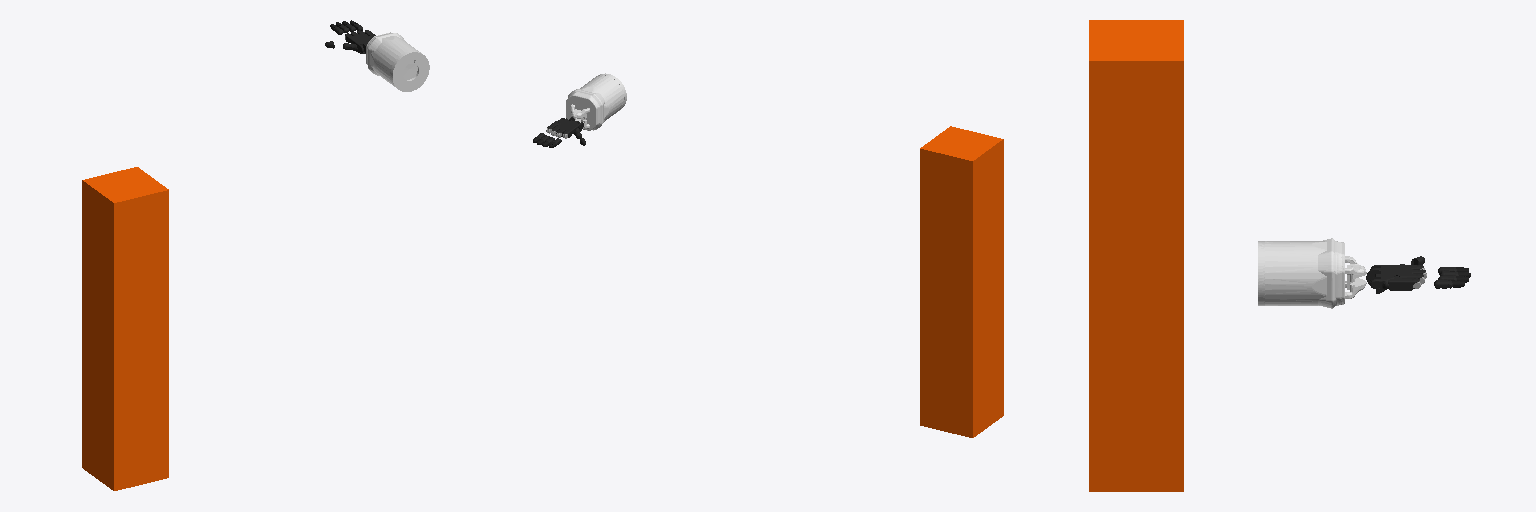
--- Facts derived from the render (not from the file) ---
Views: 3 orthographic renders of the robot side by side, from view 1: azimuth 30°, elevation 25°; view 2: azimuth 150°, elevation 25°; view 3: azimuth 270°, elevation 25°.
Robot: shadow_hand_on_ur10 — 45 links, 44 joints (30 revolute, 14 fixed); root link world; default pose: every joint at zero.
Links seen in each view (by area): view 1: arm_base, rh_forearm; view 2: arm_base, rh_forearm; view 3: arm_base, rh_forearm, rh_palm.
Boxes of the visible links, left/top/right/bottom form: arm_base: left=82, top=167, right=168, bottom=490; rh_forearm: left=366, top=32, right=429, bottom=91; arm_base: left=920, top=126, right=1003, bottom=437; rh_forearm: left=566, top=73, right=626, bottom=130; arm_base: left=1089, top=20, right=1183, bottom=491; rh_forearm: left=1258, top=238, right=1366, bottom=308; rh_palm: left=1366, top=265, right=1425, bottom=293.
Size in the robot's own frame: 1.35 by 0.8042 by 1.08 metres.
Meshes: 18 distinct files referenced, 17 mesh visuals loaded (8 Collada DAE); not drawn: 13 (reference not matched to a file when rendering).

The robot description file, URDF, robot "shadow_hand_on_ur10":
<?xml version="1.0" ?>
<!-- =================================================================================== -->
<!-- |    This document was autogenerated by xacro from shadow_hand_on_ur10.urdf.xacro | -->
<!-- |    EDITING THIS FILE BY HAND IS NOT RECOMMENDED                                 | -->
<!-- =================================================================================== -->
<robot name="shadow_hand_on_ur10" xmlns:controller="http://playerstage.sourceforge.net/gazebo/xmlschema/#controller" xmlns:interface="http://playerstage.sourceforge.net/gazebo/xmlschema/#interface" xmlns:sensor="http://playerstage.sourceforge.net/gazebo/xmlschema/#sensor">
  <!-- arm base, orange block/mount for ur5 or ur10 arm -->
  <!-- ################################################################### -->
  <!-- "arm base" : make box to elevate the robot arm -->
  <!-- fix arm base, so that it does not fall -->
  <link name="world"/>
  <joint name="world_to_robot" type="fixed">
    <parent link="world"/>
    <child link="arm_base"/>
    <origin rpy="0 0 0" xyz="0 0 0"/>
  </joint>
  <link name="arm_base">
    <visual>
      <origin rpy="0 0 0" xyz="0 0 0.5"/>
      <geometry>
        <box size="0.2 0.2 1.0"/>
      </geometry>
      <material name="orange">
        <!-- rviz will read this color -->
        <color rgba="1.0 0.4235294117647059 0.0392156862745098 1.0"/>
      </material>
    </visual>
    <collision>
      <origin rpy="0 0 0" xyz="0 0 0.5"/>
      <geometry>
        <box size="0.2 0.2 1.0"/>
      </geometry>
    </collision>
    <inertial>
      <origin rpy="0 0 0" xyz="0 0 0"/>
      <mass value="8.2573504e-01"/>
      <inertia ixx="2.2124416e-03" ixy="-1.2294101e-05" ixz="3.4938785e-05" iyy="2.1193702e-03" iyz="-5.0120904e-06" izz="2.0064271e-03"/>
    </inertial>
  </link>
  <gazebo reference="arm_base">
    <material>Gazebo/Orange</material>
    <!-- gazebo will read this color -->
  </gazebo>
  <!--ur10 without ros control-->
  <!-- ################################################################### -->
  <!-- ur10 arm -->
  <!--
    Base UR robot series xacro macro.

    NOTE: this is NOT a URDF. It cannot directly be loaded by consumers
    expecting a flattened '.urdf' file. See the top-level '.xacro' for that
    (but note: that .xacro must still be processed by the xacro command).

    For use in '.launch' files: use one of the 'load_urX.launch' convenience
    launch files.

    This file models the base kinematic chain of a UR robot, which then gets
    parameterised by various configuration files to convert it into a UR3(e),
    UR5(e), UR10(e) or UR16e.

    NOTE: the default kinematic parameters (ie: link lengths, frame locations,
    offets, etc) do not correspond to any particular robot. They are defaults
    only. There WILL be non-zero offsets between the Forward Kinematics results
    in TF (ie: robot_state_publisher) and the values reported by the Teach
    Pendant.

    For accurate (and robot-specific) transforms, the 'kinematics_parameters_file'
    parameter MUST point to a .yaml file containing the appropriate values for
    the targetted robot.

    If using the UniversalRobots/Universal_Robots_ROS_Driver, follow the steps
    described in the readme of that repository to extract the kinematic
    calibration from the controller and generate the required .yaml file.

    Main author of the migration to yaml configs: Ludovic Delval.

    Contributors to previous versions (in no particular order):

     - Felix Messmer
     - Kelsey Hawkins
     - Wim Meeussen
     - Shaun Edwards
     - Nadia Hammoudeh Garcia
     - Dave Hershberger
     - G. vd. Hoorn
     - Philip Long
     - Dave Coleman
     - Miguel Prada
     - Mathias Luedtke
     - Marcel Schnirring
     - Felix von Drigalski
     - Felix Exner
     - Jimmy Da Silva
     - Ajit Krisshna N L
     - Muhammad Asif Rana
  -->
  <!--
    NOTE: the macro defined in this file is NOT part of the public API of this
          package. Users CANNOT rely on this file being available, or stored in
          this location. Nor can they rely on the existence of the macro.
  -->
  <transmission name="ur10_shoulder_pan_trans">
    <type>transmission_interface/SimpleTransmission</type>
    <joint name="ur10_shoulder_pan_joint">
      <hardwareInterface>hardware_interface/PositionJointInterface</hardwareInterface>
    </joint>
    <actuator name="ur10_shoulder_pan_motor">
      <mechanicalReduction>1</mechanicalReduction>
    </actuator>
  </transmission>
  <transmission name="ur10_shoulder_lift_trans">
    <type>transmission_interface/SimpleTransmission</type>
    <joint name="ur10_shoulder_lift_joint">
      <hardwareInterface>hardware_interface/PositionJointInterface</hardwareInterface>
    </joint>
    <actuator name="ur10_shoulder_lift_motor">
      <mechanicalReduction>1</mechanicalReduction>
    </actuator>
  </transmission>
  <transmission name="ur10_elbow_trans">
    <type>transmission_interface/SimpleTransmission</type>
    <joint name="ur10_elbow_joint">
      <hardwareInterface>hardware_interface/PositionJointInterface</hardwareInterface>
    </joint>
    <actuator name="ur10_elbow_motor">
      <mechanicalReduction>1</mechanicalReduction>
    </actuator>
  </transmission>
  <transmission name="ur10_wrist_1_trans">
    <type>transmission_interface/SimpleTransmission</type>
    <joint name="ur10_wrist_1_joint">
      <hardwareInterface>hardware_interface/PositionJointInterface</hardwareInterface>
    </joint>
    <actuator name="ur10_wrist_1_motor">
      <mechanicalReduction>1</mechanicalReduction>
    </actuator>
  </transmission>
  <transmission name="ur10_wrist_2_trans">
    <type>transmission_interface/SimpleTransmission</type>
    <joint name="ur10_wrist_2_joint">
      <hardwareInterface>hardware_interface/PositionJointInterface</hardwareInterface>
    </joint>
    <actuator name="ur10_wrist_2_motor">
      <mechanicalReduction>1</mechanicalReduction>
    </actuator>
  </transmission>
  <transmission name="ur10_wrist_3_trans">
    <type>transmission_interface/SimpleTransmission</type>
    <joint name="ur10_wrist_3_joint">
      <hardwareInterface>hardware_interface/PositionJointInterface</hardwareInterface>
    </joint>
    <actuator name="ur10_wrist_3_motor">
      <mechanicalReduction>1</mechanicalReduction>
    </actuator>
  </transmission>
  <!-- links: main serial chain -->
  <link name="ur10_base_link">
    <inertial>
      <mass value="0.0"/>
      <origin rpy="0 0 0" xyz="0 0 0"/>
      <inertia ixx="0.0" ixy="0.0" ixz="0.0" iyy="0.0" iyz="0.0" izz="0.0"/>
    </inertial>
  </link>
  <link name="ur10_base_link_inertia">
    <visual>
      <origin rpy="0 0 3.141592653589793" xyz="0 0 0"/>
      <geometry>
        <mesh filename="../meshes/ur10/visual/base.dae"/>
      </geometry>
      <material name="LightGrey">
        <color rgba="0.7 0.7 0.7 1.0"/>
      </material>
    </visual>
    <collision>
      <origin rpy="0 0 3.141592653589793" xyz="0 0 0"/>
      <geometry>
        <mesh filename="../meshes/ur10/collision/base.stl"/>
      </geometry>
    </collision>
    <inertial>
      <mass value="4.0"/>
      <origin rpy="0 0 0" xyz="0 0 0"/>
      <inertia ixx="0.0061063308908" ixy="0.0" ixz="0.0" iyy="0.0061063308908" iyz="0.0" izz="0.01125"/>
    </inertial>
  </link>
  <link name="ur10_shoulder_link">
    <visual>
      <origin rpy="0 0 3.141592653589793" xyz="0 0 0"/>
      <geometry>
        <mesh filename="../meshes/ur10/visual/shoulder.dae"/>
      </geometry>
      <material name="LightGrey">
        <color rgba="0.7 0.7 0.7 1.0"/>
      </material>
    </visual>
    <collision>
      <origin rpy="0 0 3.141592653589793" xyz="0 0 0"/>
      <geometry>
        <mesh filename="../meshes/ur10/collision/shoulder.stl"/>
      </geometry>
    </collision>
    <inertial>
      <mass value="7.778"/>
      <origin rpy="0 0 0" xyz="0 0 0"/>
      <inertia ixx="0.03147431257693659" ixy="0.0" ixz="0.0" iyy="0.03147431257693659" iyz="0.0" izz="0.021875624999999996"/>
    </inertial>
  </link>
  <link name="ur10_upper_arm_link">
    <visual>
      <origin rpy="1.5707963267948966 0 -1.5707963267948966" xyz="0 0 0.220941"/>
      <geometry>
        <mesh filename="../meshes/ur10/visual/upperarm.dae"/>
      </geometry>
      <material name="LightGrey">
        <color rgba="0.7 0.7 0.7 1.0"/>
      </material>
    </visual>
    <collision>
      <origin rpy="1.5707963267948966 0 -1.5707963267948966" xyz="0 0 0.220941"/>
      <geometry>
        <mesh filename="../meshes/ur10/collision/upperarm.stl"/>
      </geometry>
    </collision>
    <inertial>
      <mass value="12.93"/>
      <origin rpy="0 1.5707963267948966 0" xyz="-0.306 0.0 0.175"/>
      <inertia ixx="0.42175380379841093" ixy="0.0" ixz="0.0" iyy="0.42175380379841093" iyz="0.0" izz="0.03636562499999999"/>
    </inertial>
  </link>
  <link name="ur10_forearm_link">
    <visual>
      <origin rpy="1.5707963267948966 0 -1.5707963267948966" xyz="0 0 0.049042"/>
      <geometry>
        <mesh filename="../meshes/ur10/visual/forearm.dae"/>
      </geometry>
      <material name="LightGrey">
        <color rgba="0.7 0.7 0.7 1.0"/>
      </material>
    </visual>
    <collision>
      <origin rpy="1.5707963267948966 0 -1.5707963267948966" xyz="0 0 0.049042"/>
      <geometry>
        <mesh filename="../meshes/ur10/collision/forearm.stl"/>
      </geometry>
    </collision>
    <inertial>
      <mass value="3.87"/>
      <origin rpy="0 1.5707963267948966 0" xyz="-0.28615 0.0 0.049042"/>
      <inertia ixx="0.11106969409710458" ixy="0.0" ixz="0.0" iyy="0.11106969409710458" iyz="0.0" izz="0.010884375"/>
    </inertial>
  </link>
  <link name="ur10_wrist_1_link">
    <visual>
      <!-- TODO: Move this to a parameter -->
      <origin rpy="1.5707963267948966 0 0" xyz="0 0 -0.1149"/>
      <geometry>
        <mesh filename="../meshes/ur10/visual/wrist1.dae"/>
      </geometry>
      <material name="LightGrey">
        <color rgba="0.7 0.7 0.7 1.0"/>
      </material>
    </visual>
    <collision>
      <origin rpy="1.5707963267948966 0 0" xyz="0 0 -0.1149"/>
      <geometry>
        <mesh filename="../meshes/ur10/collision/wrist1.stl"/>
      </geometry>
    </collision>
    <inertial>
      <mass value="1.96"/>
      <origin rpy="0 0 0" xyz="0 0 0"/>
      <inertia ixx="0.005108247956699999" ixy="0.0" ixz="0.0" iyy="0.005108247956699999" iyz="0.0" izz="0.005512499999999999"/>
    </inertial>
  </link>
  <link name="ur10_wrist_2_link">
    <visual>
      <origin rpy="0 0 0" xyz="0 0 -0.1158"/>
      <geometry>
        <mesh filename="../meshes/ur10/visual/wrist2.dae"/>
      </geometry>
      <material name="LightGrey">
        <color rgba="0.7 0.7 0.7 1.0"/>
      </material>
    </visual>
    <collision>
      <origin rpy="0 0 0" xyz="0 0 -0.1158"/>
      <geometry>
        <mesh filename="../meshes/ur10/collision/wrist2.stl"/>
      </geometry>
    </collision>
    <inertial>
      <mass value="1.96"/>
      <origin rpy="0 0 0" xyz="0 0 0"/>
      <inertia ixx="0.0040792483683" ixy="0.0" ixz="0.0" iyy="0.0040792483683" iyz="0.0" izz="0.005512499999999999"/>
    </inertial>
  </link>
  <link name="ur10_wrist_3_link">
    <visual>
      <origin rpy="1.5707963267948966 0 0" xyz="0 0 -0.0922"/>
      <geometry>
        <mesh filename="../meshes/ur10/visual/wrist3.dae"/>
      </geometry>
      <material name="LightGrey">
        <color rgba="0.7 0.7 0.7 1.0"/>
      </material>
    </visual>
    <collision>
      <origin rpy="1.5707963267948966 0 0" xyz="0 0 -0.0922"/>
      <geometry>
        <mesh filename="../meshes/ur10/collision/wrist3.stl"/>
      </geometry>
    </collision>
    <inertial>
      <mass value="0.202"/>
      <origin rpy="0 0 0" xyz="0.0 0.0 -0.01525"/>
      <inertia ixx="0.00011792166116465" ixy="0.0" ixz="0.0" iyy="0.00011792166116465" iyz="0.0" izz="0.00020452500000000002"/>
    </inertial>
  </link>
  <!-- joints: main serial chain -->
  <joint name="ur10_base_link-base_link_inertia" type="fixed">
    <parent link="ur10_base_link"/>
    <child link="ur10_base_link_inertia"/>
    <!-- 'base_link' is REP-103 aligned (so X+ forward), while the internal
           frames of the robot/controller have X+ pointing backwards.
           Use the joint between 'base_link' and 'base_link_inertia' (a dummy
           link/frame) to introduce the necessary rotation over Z (of pi rad).
      -->
    <origin rpy="0 0 3.141592653589793" xyz="0 0 0"/>
  </joint>
  <joint name="ur10_shoulder_pan_joint" type="revolute">
    <parent link="ur10_base_link_inertia"/>
    <child link="ur10_shoulder_link"/>
    <origin rpy="0 0 0" xyz="0 0 0.1273"/>
    <axis xyz="0 0 1"/>
    <limit effort="330.0" lower="-6.283185307179586" upper="6.283185307179586" velocity="2.0943951023931953"/>
    <dynamics damping="0" friction="0"/>
  </joint>
  <joint name="ur10_shoulder_lift_joint" type="revolute">
    <parent link="ur10_shoulder_link"/>
    <child link="ur10_upper_arm_link"/>
    <origin rpy="1.570796327 0 0" xyz="0 0 0"/>
    <axis xyz="0 0 1"/>
    <limit effort="330.0" lower="-6.283185307179586" upper="6.283185307179586" velocity="2.0943951023931953"/>
    <dynamics damping="0" friction="0"/>
  </joint>
  <joint name="ur10_elbow_joint" type="revolute">
    <parent link="ur10_upper_arm_link"/>
    <child link="ur10_forearm_link"/>
    <origin rpy="0 0 0" xyz="-0.612 0 0"/>
    <axis xyz="0 0 1"/>
    <limit effort="150.0" lower="-3.141592653589793" upper="3.141592653589793" velocity="3.141592653589793"/>
    <dynamics damping="0" friction="0"/>
  </joint>
  <joint name="ur10_wrist_1_joint" type="revolute">
    <parent link="ur10_forearm_link"/>
    <child link="ur10_wrist_1_link"/>
    <origin rpy="0 0 0" xyz="-0.5723 0 0.163941"/>
    <axis xyz="0 0 1"/>
    <limit effort="56.0" lower="-6.283185307179586" upper="6.283185307179586" velocity="3.141592653589793"/>
    <dynamics damping="0" friction="0"/>
  </joint>
  <joint name="ur10_wrist_2_joint" type="revolute">
    <parent link="ur10_wrist_1_link"/>
    <child link="ur10_wrist_2_link"/>
    <origin rpy="1.570796327 0 0" xyz="0 -0.1157 -2.373046667922381e-11"/>
    <axis xyz="0 0 1"/>
    <limit effort="56.0" lower="-6.283185307179586" upper="6.283185307179586" velocity="3.141592653589793"/>
    <dynamics damping="0" friction="0"/>
  </joint>
  <joint name="ur10_wrist_3_joint" type="revolute">
    <parent link="ur10_wrist_2_link"/>
    <child link="ur10_wrist_3_link"/>
    <origin rpy="1.570796326589793 3.141592653589793 3.141592653589793" xyz="0 0.0922 -1.891053610911353e-11"/>
    <axis xyz="0 0 1"/>
    <limit effort="56.0" lower="-6.283185307179586" upper="6.283185307179586" velocity="3.141592653589793"/>
    <dynamics damping="0" friction="0"/>
  </joint>
  <!-- ROS-Industrial 'base' frame: base_link to UR 'Base' Coordinates transform -->
  <link name="ur10_base">
    <inertial>
      <mass value="0.0"/>
      <origin rpy="0 0 0" xyz="0 0 0"/>
      <inertia ixx="0.0" ixy="0.0" ixz="0.0" iyy="0.0" iyz="0.0" izz="0.0"/>
    </inertial>
  </link>
  <joint name="ur10_base_link-base_fixed_joint" type="fixed">
    <!-- Note the rotation over Z of pi radians: as base_link is REP-103
           aligned (ie: has X+ forward, Y+ left and Z+ up), this is needed
           to correctly align 'base' with the 'Base' coordinate system of
           the UR controller.
      -->
    <origin rpy="0 0 3.141592653589793" xyz="0 0 0"/>
    <parent link="ur10_base_link"/>
    <child link="ur10_base"/>
  </joint>
  <!-- ROS-Industrial 'flange' frame: attachment point for EEF models -->
  <link name="ur10_flange">
    <inertial>
      <mass value="0.0"/>
      <origin rpy="0 0 0" xyz="0 0 0"/>
      <inertia ixx="0.0" ixy="0.0" ixz="0.0" iyy="0.0" iyz="0.0" izz="0.0"/>
    </inertial>
  </link>
  <joint name="ur10_wrist_3-flange" type="fixed">
    <parent link="ur10_wrist_3_link"/>
    <child link="ur10_flange"/>
    <origin rpy="0 -1.5707963267948966 -1.5707963267948966" xyz="0 0 0"/>
  </joint>
  <!-- ROS-Industrial 'tool0' frame: all-zeros tool frame -->
  <link name="ur10_tool0">
    <inertial>
      <mass value="0.0"/>
      <origin rpy="0 0 0" xyz="0 0 0"/>
      <inertia ixx="0.0" ixy="0.0" ixz="0.0" iyy="0.0" iyz="0.0" izz="0.0"/>
    </inertial>
  </link>
  <joint name="ur10_flange-tool0" type="fixed">
    <!-- default toolframe: X+ left, Y+ up, Z+ front -->
    <origin rpy="1.5707963267948966 0 1.5707963267948966" xyz="0 0 0"/>
    <parent link="ur10_flange"/>
    <child link="ur10_tool0"/>
  </joint>
  <!-- ################################################################### -->
  <!-- attach "arm" and "arm base" -->
  <joint name="arm_base_to_arm" type="fixed">
    <parent link="arm_base"/>
    <child link="ur10_base_link"/>
    <origin rpy="0 0 0" xyz="0 0 1.0"/>
  </joint>
  <material name="Blue">
    <color rgba="0.0 0.0 0.8 1.0"/>
  </material>
  <material name="Green">
    <color rgba="0.0 0.8 0.0 1.0"/>
  </material>
  <material name="BiotacGreen">
    <color rgba="0.31 0.85 0.42 1.0"/>
  </material>
  <material name="Grey">
    <color rgba="0.2 0.2 0.2 1.0"/>
  </material>
  <material name="LightGrey">
    <color rgba="0.6 0.6 0.6 1.0"/>
  </material>
  <material name="Red">
    <color rgba="0.8 0.0 0.0 1.0"/>
  </material>
  <material name="White">
    <color rgba="1.0 1.0 1.0 1.0"/>
  </material>
  <gazebo>
    <plugin filename="libgazebo_ros_control.so" name="gazebo_ros_control">
      <robotSimType>sr_gazebo_sim/SrGazeboHWSim</robotSimType>
    </plugin>
  </gazebo>
  <link name="rh_forearm">
    <inertial>
      <origin rpy="0 0 0" xyz="0 0 0.09"/>
      <mass value="3.0"/>
      <inertia ixx="0.0138" ixy="0.0" ixz="0.0" iyy="0.0138" iyz="0.0" izz="0.00744"/>
    </inertial>
    <visual>
      <origin rpy="0 0 0" xyz="0 0 0.0"/>
      <geometry name="rh_forearm_visual">
        <mesh filename="../meshes/components/forearm/forearm_E3M5.dae" scale="0.001 0.001 0.001"/>
      </geometry>
      <material name="light_grey">
        <color rgba="0.90000 0.90000 0.90000 1.0"/>
      </material>
    </visual>
    <collision>
      <origin rpy="0 0 0" xyz="0 0 0.0"/>
      <geometry name="rh_forearm_collision">
        <mesh filename="../meshes/components/forearm/forearm_collision_E3M5.dae" scale="0.001 0.001 0.001"/>
      </geometry>
    </collision>
    <!-- wrist mount -->
    <collision>
      <origin rpy="0 0.78 0" xyz="0 -0.01 0.181"/>
      <geometry>
        <box size="0.07 0.07 0.07"/>
      </geometry>
    </collision>
    <!-- TODO: Make a decision on whether to add the connector or not -->
    <!--visual>
        <origin rpy="0 -1.57 -1.57" xyz="0.0 0.067 0.0045"/>
        <geometry name="${prefix}cable_extr_visualisation">
          <mesh filename="../meshes/components/cable_connector/cable_connector_base_${hand_version}.dae" scale="0.001 0.001 0.001" />
        </geometry>
      </visual-->
  </link>
  <gazebo reference="rh_forearm">
    <selfCollide>false</selfCollide>
  </gazebo>
  <link name="rh_wrist">
    <inertial>
      <origin rpy="0 0 0" xyz="0 0 0.029"/>
      <mass value="0.1"/>
      <inertia ixx="0.000035" ixy="0.0" ixz="0.0" iyy="0.000064" iyz="0.0" izz="0.0000438"/>
    </inertial>
    <visual>
      <origin rpy="0 0 0" xyz="0 0 0"/>
      <geometry name="rh_wrist_visual">
        <mesh filename="../meshes/components/wrist/wrist_E3M5.dae" scale="0.001 0.001 0.001"/>
      </geometry>
      <material name="LightGrey"/>
    </visual>
    <collision>
      <origin rpy="1.5708 1.5708 0" xyz="0 0 0"/>
      <geometry name="rh_wrist_collision_geom">
        <cylinder length="0.030" radius="0.0135"/>
      </geometry>
    </collision>
    <collision>
      <origin rpy="0 1.5708 0" xyz="-0.026 0 0.034"/>
      <geometry>
        <cylinder length="0.010" radius="0.011"/>
      </geometry>
    </collision>
    <collision>
      <origin rpy="0 1.5708 0" xyz="0.031 0 0.034"/>
      <geometry>
        <cylinder length="0.010" radius="0.011"/>
      </geometry>
    </collision>
    <collision>
      <origin rpy="0 0.7854 0" xyz="-0.021 0 0.011"/>
      <geometry>
        <box size="0.027 0.018 0.010"/>
      </geometry>
    </collision>
    <collision>
      <origin rpy="0 -0.7854 0" xyz="0.026 0 0.010"/>
      <geometry>
        <box size="0.027 0.018 0.010"/>
      </geometry>
    </collision>
  </link>
  <gazebo reference="rh_wrist">
    <material>Gazebo/White</material>
    <selfCollide>false</selfCollide>
  </gazebo>
  <joint name="rh_WRJ2" type="revolute">
    <parent link="rh_forearm"/>
    <child link="rh_wrist"/>
    <origin rpy="0 0 0" xyz="0 -0.010 0.21301"/>
    <axis xyz="0 1 0"/>
    <limit effort="10" lower="-0.5235987755982988" upper="0.17453292519943295" velocity="2.0"/>
    <dynamics damping="0.1"/>
  </joint>
  <gazebo reference="rh_WRJ2">
    <provideFeedback>1</provideFeedback>
    <implicitSpringDamper>1</implicitSpringDamper>
  </gazebo>
  <transmission name="rh_wrist_transmission">
    <type>sr_mechanism_model/SimpleTransmission</type>
    <actuator name="rh_WRJ2">
      <mechanicalReduction>1</mechanicalReduction>
    </actuator>
    <joint name="rh_WRJ2">
      <hardwareInterface>EffortJointInterface</hardwareInterface>
      <hardwareInterface>PositionJointInterface</hardwareInterface>
    </joint>
  </transmission>
  <link name="rh_palm">
    <inertial>
      <origin rpy="0 0 0" xyz="0 0 0.035"/>
      <mass value="0.3"/>
      <inertia ixx="0.0003581" ixy="0.0" ixz="0.0" iyy="0.0005287" iyz="0.0" izz="0.000191"/>
    </inertial>
    <visual>
      <origin rpy="0 0 0" xyz="0 0 0"/>
      <geometry name="rh_palm_visual">
        <mesh filename="../meshes/components/palm/palm_E3M5.dae" scale="0.001 0.001 0.001"/>
      </geometry>
      <material name="Grey"/>
    </visual>
    <collision>
      <origin rpy="0 0 0" xyz="0.011 0.0085 0.038"/>
      <geometry name="rh_palm_collision_geom">
        <box size="0.062 0.007 0.098"/>
      </geometry>
    </collision>
    <collision>
      <origin rpy="0 0 0" xyz="-0.002 -0.0035 0.038"/>
      <geometry>
        <box size="0.036 0.017 0.098"/>
      </geometry>
    </collision>
    <!-- palm complement below first finger -->
    <collision>
      <origin rpy="0 0 0" xyz="0.029 -0.0035 0.082"/>
      <geometry>
        <box size="0.026 0.017 0.010"/>
      </geometry>
    </collision>
    <collision>
      <origin rpy="0.2 0 0.25" xyz="0.0265 -0.001 0.070"/>
      <geometry>
        <box size="0.026 0.014 0.018"/>
      </geometry>
    </collision>
    <!-- thumb pulp side -->
    <collision>
      <origin rpy="0 0 0" xyz="0.0315 -0.0085 0.001"/>
      <geometry>
        <box size="0.021 0.027 0.024"/>
      </geometry>
    </collision>
    <!-- thumb pulp central -->
    <collision>
      <origin rpy="0 0 -0.48" xyz="0.0125 -0.015 0.009"/>
      <geometry>
        <box size="0.022 0.005 0.040"/>
      </geometry>
    </collision>
    <!-- above middle finger-->
    <collision>
      <origin rpy="0 0 0" xyz="0.011 0 0.089"/>
      <geometry>
        <box size="0.018 0.024 0.004"/>
      </geometry>
    </collision>
    <!-- metacarpal side-->
    <collision>
      <origin rpy="0 0 0" xyz="-0.03 0 0.009"/>
      <geometry>
        <box size="0.020 0.024 0.040"/>
      </geometry>
    </collision>
  </link>
  <joint name="rh_ee_fixed_joint" type="fixed">
    <parent link="rh_palm"/>
    <child link="rh_manipulator"/>
    <origin rpy="0.0 0.0 0.0" xyz="0.0 0.0 0.05"/>
  </joint>
  <link name="rh_manipulator">
    <inertial>
      <mass value="0.0"/>
      <origin rpy="0 0 0" xyz="0 0 0"/>
      <inertia ixx="0.0" ixy="0.0" ixz="0.0" iyy="0.0" iyz="0.0" izz="0.0"/>
    </inertial>
  </link>
  <joint name="rh_WRJ1" type="revolute">
    <parent link="rh_wrist"/>
    <child link="rh_palm"/>
    <origin rpy="0 0 0" xyz="0 0 0.034"/>
    <axis xyz="1 0 0"/>
    <limit effort="30" lower="-0.6981317007977318" upper="0.4886921905584123" velocity="2.0"/>
    <dynamics damping="0.1"/>
  </joint>
  <gazebo reference="rh_WRJ1">
    <provideFeedback>1</provideFeedback>
    <implicitSpringDamper>1</implicitSpringDamper>
  </gazebo>
  <link name="rh_imu">
    <inertial>
      <mass value="0.0"/>
      <origin rpy="0 0 0" xyz="0 0 0"/>
      <inertia ixx="0.0" ixy="0.0" ixz="0.0" iyy="0.0" iyz="0.0" izz="0.0"/>
    </inertial>
  </link>
  <joint name="rh_palm_to_imu" type="fixed">
    <parent link="rh_palm"/>
    <child link="rh_imu"/>
    <origin rpy="-1.5707963 3.141592 0.0" xyz="0.01785 0.00765 0.049125"/>
  </joint>
  <transmission name="rh_palm_transmission">
    <type>sr_mechanism_model/SimpleTransmission</type>
    <actuator name="rh_WRJ1">
      <mechanicalReduction>1</mechanicalReduction>
    </actuator>
    <joint name="rh_WRJ1">
      <hardwareInterface>EffortJointInterface</hardwareInterface>
      <hardwareInterface>PositionJointInterface</hardwareInterface>
    </joint>
  </transmission>
  <gazebo reference="rh_palm">
  </gazebo>
  <link name="rh_ffknuckle">
    <inertial>
      <origin rpy="0 0 0" xyz="0 0 0"/>
      <mass value="0.008"/>
      <inertia ixx="0.00000026" ixy="0.0" ixz="0.0" iyy="0.00000026" iyz="0.0" izz="0.00000032"/>
    </inertial>
    <visual>
      <origin rpy="0 0 0" xyz="0 0 0.0005"/>
      <geometry name="rh_ffknuckle_visual">
        <mesh filename="../meshes/components/f_knuckle/f_knuckle_E3M5.dae" scale="0.001 0.001 0.001"/>
      </geometry>
      <material name="LightGrey"/>
    </visual>
    <collision>
      <origin rpy="0 1.5708 0" xyz="0 0 0"/>
      <geometry name="rh_ffknuckle_collision_geom">
        <cylinder length="0.014" radius="0.007"/>
      </geometry>
    </collision>
  </link>
  <joint name="rh_FFJ4" type="revolute">
    <parent link="rh_palm"/>
    <child link="rh_ffknuckle"/>
    <!--<origin xyz="0.033 0 0.095" rpy="0 0 0" />-->
    <origin rpy="0 0 0" xyz="0.033 0 0.095"/>
    <axis xyz="0 -1 0"/>
    <limit effort="2" lower="-0.3490658503988659" upper="0.3490658503988659" velocity="2.0"/>
    <dynamics damping="0.1"/>
  </joint>
  <gazebo reference="rh_FFJ4">
    <provideFeedback>1</provideFeedback>
    <implicitSpringDamper>1</implicitSpringDamper>
  </gazebo>
  <transmission name="rh_ffknuckle_transmission">
    <type>sr_mechanism_model/SimpleTransmission</type>
    <actuator name="rh_FFJ4">
      <mechanicalReduction>1</mechanicalReduction>
    </actuator>
    <joint name="rh_FFJ4">
      <hardwareInterface>EffortJointInterface</hardwareInterface>
      <hardwareInterface>PositionJointInterface</hardwareInterface>
    </joint>
  </transmission>
  <gazebo reference="rh_ffknuckle">
    <!-- knuckle is not highly exposed, so bumper is not useful -->
    <material>Gazebo/Grey</material>
  </gazebo>
  <link name="rh_ffproximal">
    <inertial>
      <mass value="0.030"/>
      <origin xyz="0 0 0.0225"/>
      <inertia ixx="0.0000098" ixy="0.0" ixz="0.0" iyy="0.00001" iyz="0.0" izz="0.0000018"/>
    </inertial>
    <visual>
      <origin rpy="0 0 0" xyz="0 0 0"/>
      <geometry name="rh_ffproximal_visual">
        <mesh filename="../meshes/components/f_proximal/f_proximal_E3M5.dae" scale="0.001 0.001 0.001"/>
      </geometry>
      <material name="Grey"/>
    </visual>
    <collision>
      <origin rpy="0 0 0" xyz="0 0 0.025"/>
      <geometry name="rh_ffproximal_collision_geom">
        <cylinder length="0.040" radius="0.007"/>
      </geometry>
    </collision>
  </link>
  <joint name="rh_FFJ3" type="revolute">
    <parent link="rh_ffknuckle"/>
    <child link="rh_ffproximal"/>
    <origin rpy="0 0 0" xyz="0 0 0"/>
    <axis xyz="1 0 0"/>
    <limit effort="2" lower="-0.2617993877991494" upper="1.5707963267948966" velocity="2.0"/>
    <dynamics damping="0.1"/>
  </joint>
  <gazebo reference="rh_FFJ3">
    <provideFeedback>1</provideFeedback>
    <implicitSpringDamper>1</implicitSpringDamper>
  </gazebo>
  <transmission name="rh_ffproximal_transmission">
    <type>sr_mechanism_model/SimpleTransmission</type>
    <actuator name="rh_FFJ3">
      <mechanicalReduction>1</mechanicalReduction>
    </actuator>
    <joint name="rh_FFJ3">
      <hardwareInterface>EffortJointInterface</hardwareInterface>
      <hardwareInterface>PositionJointInterface</hardwareInterface>
    </joint>
  </transmission>
  <gazebo reference="rh_ffproximal">
    <selfCollide>true</selfCollide>
  </gazebo>
  <link name="rh_ffmiddle">
    <inertial>
      <origin rpy="0 0 0" xyz="0 0 0.0125"/>
      <mass value="0.017"/>
      <inertia ixx="0.0000026" ixy="0.0" ixz="0.0" iyy="0.0000027" iyz="0.0" izz="0.00000087"/>
    </inertial>
    <visual>
      <origin rpy="0 0 0" xyz="0 0 0"/>
      <geometry name="rh_ffmiddle_visual">
        <mesh filename="../meshes/components/f_middle/f_middle_E3M5.dae" scale="0.001 0.001 0.001"/>
      </geometry>
      <material name="Grey"/>
    </visual>
    <collision>
      <origin rpy="0 0 0" xyz="0 0 0.0125"/>
      <geometry name="rh_ffmiddle_collision_geom">
        <cylinder length="0.025" radius="0.007"/>
      </geometry>
    </collision>
    <collision>
      <origin rpy="0 0 0" xyz="0 0 0.0"/>
      <geometry>
        <sphere radius="0.007"/>
      </geometry>
    </collision>
    <collision>
      <origin rpy="0 0 0" xyz="0 0 0.025"/>
      <geometry>
        <sphere radius="0.007"/>
      </geometry>
    </collision>
  </link>
  <joint name="rh_FFJ2" type="revolute">
    <parent link="rh_ffproximal"/>
    <child link="rh_ffmiddle"/>
    <origin rpy="0 0 0" xyz="0 0 0.045"/>
    <axis xyz="1 0 0"/>
    <limit effort="2" lower="0" upper="1.5707963267948966" velocity="2.0"/>
    <dynamics damping="0.1"/>
  </joint>
  <gazebo reference="rh_FFJ2">
    <provideFeedback>1</provideFeedback>
    <implicitSpringDamper>1</implicitSpringDamper>
  </gazebo>
  <transmission name="rh_ffmiddle_transmission">
    <type>sr_mechanism_model/J0Transmission</type>
    <actuator name="rh_FFJ0">
      <mechanicalReduction>1</mechanicalReduction>
    </actuator>
    <joint name="rh_FFJ1">
      <hardwareInterface>EffortJointInterface</hardwareInterface>
      <hardwareInterface>PositionJointInterface</hardwareInterface>
    </joint>
  </transmission>
  <gazebo reference="rh_ffmiddle">
    <selfCollide>true</selfCollide>
  </gazebo>
  <link name="rh_ffdistal">
    <inertial>
      <mass value="0.012"/>
      <origin xyz="0 0 0.012"/>
      <inertia ixx="0.00000094" ixy="0.0" ixz="0.0" iyy="0.0000011" iyz="0.0" izz="0.00000053"/>
    </inertial>
    <visual>
      <origin rpy="0 0 0" xyz="0 0 0"/>
      <geometry name="rh_ffdistal_visual">
        <mesh filename="../meshes/components/f_distal/pst/f_distal_pst.dae" scale="0.001 0.001 0.001"/>
      </geometry>
    </visual>
    <collision>
      <origin rpy="0 0 0" xyz="0 0 0"/>
      <geometry name="rh_ffdistal_collision_geom">
        <mesh filename="../meshes/components/f_distal/pst/f_distal_pst.dae" scale="0.001 0.001 0.001"/>
      </geometry>
    </collision>
  </link>
  <joint name="rh_FFJ1" type="revolute">
    <parent link="rh_ffmiddle"/>
    <child link="rh_ffdistal"/>
    <origin rpy="0 0 0" xyz="0 0 0.025"/>
    <axis xyz="1 0 0"/>
    <!-- standard distal joint -->
    <limit effort="2" lower="0" upper="1.5707963267948966" velocity="2.0"/>
    <dynamics damping="0.1"/>
  </joint>
  <gazebo reference="rh_FFJ1">
    <provideFeedback>1</provideFeedback>
    <implicitSpringDamper>1</implicitSpringDamper>
  </gazebo>
  <link name="rh_fftip">
    <inertial>
      <mass value="0.001"/>
      <inertia ixx="0.0" ixy="0.0" ixz="0.0" iyy="0.0" iyz="0.0" izz="0.0"/>
    </inertial>
  </link>
  <joint name="rh_FFtip" type="fixed">
    <parent link="rh_ffdistal"/>
    <child link="rh_fftip"/>
    <origin rpy="0 0 0" xyz="0 0 0.026"/>
  </joint>
  <gazebo reference="rh_ffdistal">
    <sensor name="rh_ffdistal_contact" type="contact">
      <always_on>1</always_on>
      <update_rate>1000.0</update_rate>
      <contact>
        <collision>rh_ffdistal_collision</collision>
        <topic>rh_ffdistal_collision</topic>
      </contact>
      <plugin filename="libgazebo_ros_bumper.so" name="rh_ffdistal_gazebo_ros_bumper_controller">
        <alwaysOn>true</alwaysOn>
        <frameName>rh_ffdistal</frameName>
        <updateRate>100.0</updateRate>
        <bumperTopicName>contacts/rh_ff/distal</bumperTopicName>
      </plugin>
    </sensor>
    <mu1 value="500.0"/>
    <mu2 value="500.0"/>
    <kp value="10000000.0"/>
    <kd value="1.0"/>
    <selfCollide>true</selfCollide>
  </gazebo>
  <link name="rh_mfknuckle">
    <inertial>
      <origin rpy="0 0 0" xyz="0 0 0"/>
      <mass value="0.008"/>
      <inertia ixx="0.00000026" ixy="0.0" ixz="0.0" iyy="0.00000026" iyz="0.0" izz="0.00000032"/>
    </inertial>
    <visual>
      <origin rpy="0 0 0" xyz="0 0 0.0005"/>
      <geometry name="rh_mfknuckle_visual">
        <mesh filename="../meshes/components/f_knuckle/f_knuckle_E3M5.dae" scale="0.001 0.001 0.001"/>
      </geometry>
      <material name="LightGrey"/>
    </visual>
    <collision>
      <origin rpy="0 1.5708 0" xyz="0 0 0"/>
      <geometry name="rh_mfknuckle_collision_geom">
        <cylinder length="0.014" radius="0.007"/>
      </geometry>
    </collision>
  </link>
  <joint name="rh_MFJ4" type="revolute">
    <parent link="rh_palm"/>
    <child link="rh_mfknuckle"/>
    <!--<origin xyz="0.033 0 0.095" rpy="0 0 0" />-->
    <origin rpy="0 0 0" xyz="0.011 0 0.099"/>
    <axis xyz="0 -1 0"/>
    <limit effort="2" lower="-0.3490658503988659" upper="0.3490658503988659" velocity="2.0"/>
    <dynamics damping="0.1"/>
  </joint>
  <gazebo reference="rh_MFJ4">
    <provideFeedback>1</provideFeedback>
    <implicitSpringDamper>1</implicitSpringDamper>
  </gazebo>
  <transmission name="rh_mfknuckle_transmission">
    <type>sr_mechanism_model/SimpleTransmission</type>
    <actuator name="rh_MFJ4">
      <mechanicalReduction>1</mechanicalReduction>
    </actuator>
    <joint name="rh_MFJ4">
      <hardwareInterface>EffortJointInterface</hardwareInterface>
      <hardwareInterface>PositionJointInterface</hardwareInterface>
    </joint>
  </transmission>
  <gazebo reference="rh_mfknuckle">
    <!-- knuckle is not highly exposed, so bumper is not useful -->
    <material>Gazebo/Grey</material>
  </gazebo>
  <link name="rh_mfproximal">
    <inertial>
      <mass value="0.030"/>
      <origin xyz="0 0 0.0225"/>
      <inertia ixx="0.0000098" ixy="0.0" ixz="0.0" iyy="0.00001" iyz="0.0" izz="0.0000018"/>
    </inertial>
    <visual>
      <origin rpy="0 0 0" xyz="0 0 0"/>
      <geometry name="rh_mfproximal_visual">
        <mesh filename="../meshes/components/f_proximal/f_proximal_E3M5.dae" scale="0.001 0.001 0.001"/>
      </geometry>
      <material name="Grey"/>
    </visual>
    <collision>
      <origin rpy="0 0 0" xyz="0 0 0.025"/>
      <geometry name="rh_mfproximal_collision_geom">
        <cylinder length="0.040" radius="0.007"/>
      </geometry>
    </collision>
  </link>
  <joint name="rh_MFJ3" type="revolute">
    <parent link="rh_mfknuckle"/>
    <child link="rh_mfproximal"/>
    <origin rpy="0 0 0" xyz="0 0 0"/>
    <axis xyz="1 0 0"/>
    <limit effort="2" lower="-0.2617993877991494" upper="1.5707963267948966" velocity="2.0"/>
    <dynamics damping="0.1"/>
  </joint>
  <gazebo reference="rh_MFJ3">
    <provideFeedback>1</provideFeedback>
    <implicitSpringDamper>1</implicitSpringDamper>
  </gazebo>
  <transmission name="rh_mfproximal_transmission">
    <type>sr_mechanism_model/SimpleTransmission</type>
    <actuator name="rh_MFJ3">
      <mechanicalReduction>1</mechanicalReduction>
    </actuator>
    <joint name="rh_MFJ3">
      <hardwareInterface>EffortJointInterface</hardwareInterface>
      <hardwareInterface>PositionJointInterface</hardwareInterface>
    </joint>
  </transmission>
  <gazebo reference="rh_mfproximal">
    <selfCollide>true</selfCollide>
  </gazebo>
  <link name="rh_mfmiddle">
    <inertial>
      <origin rpy="0 0 0" xyz="0 0 0.0125"/>
      <mass value="0.017"/>
      <inertia ixx="0.0000026" ixy="0.0" ixz="0.0" iyy="0.0000027" iyz="0.0" izz="0.00000087"/>
    </inertial>
    <visual>
      <origin rpy="0 0 0" xyz="0 0 0"/>
      <geometry name="rh_mfmiddle_visual">
        <mesh filename="../meshes/components/f_middle/f_middle_E3M5.dae" scale="0.001 0.001 0.001"/>
      </geometry>
      <material name="Grey"/>
    </visual>
    <collision>
      <origin rpy="0 0 0" xyz="0 0 0.0125"/>
      <geometry name="rh_mfmiddle_collision_geom">
        <cylinder length="0.025" radius="0.007"/>
      </geometry>
    </collision>
    <collision>
      <origin rpy="0 0 0" xyz="0 0 0.0"/>
      <geometry>
        <sphere radius="0.007"/>
      </geometry>
    </collision>
    <collision>
      <origin rpy="0 0 0" xyz="0 0 0.025"/>
      <geometry>
        <sphere radius="0.007"/>
      </geometry>
    </collision>
  </link>
  <joint name="rh_MFJ2" type="revolute">
    <parent link="rh_mfproximal"/>
    <child link="rh_mfmiddle"/>
    <origin rpy="0 0 0" xyz="0 0 0.045"/>
    <axis xyz="1 0 0"/>
    <limit effort="2" lower="0" upper="1.5707963267948966" velocity="2.0"/>
    <dynamics damping="0.1"/>
  </joint>
  <gazebo reference="rh_MFJ2">
    <provideFeedback>1</provideFeedback>
    <implicitSpringDamper>1</implicitSpringDamper>
  </gazebo>
  <transmission name="rh_mfmiddle_transmission">
    <type>sr_mechanism_model/J0Transmission</type>
    <actuator name="rh_MFJ0">
      <mechanicalReduction>1</mechanicalReduction>
    </actuator>
    <joint name="rh_MFJ1">
      <hardwareInterface>EffortJointInterface</hardwareInterface>
      <hardwareInterface>PositionJointInterface</hardwareInterface>
    </joint>
  </transmission>
  <gazebo reference="rh_mfmiddle">
    <selfCollide>true</selfCollide>
  </gazebo>
  <link name="rh_mfdistal">
    <inertial>
      <mass value="0.012"/>
      <origin xyz="0 0 0.012"/>
      <inertia ixx="0.00000094" ixy="0.0" ixz="0.0" iyy="0.0000011" iyz="0.0" izz="0.00000053"/>
    </inertial>
    <visual>
      <origin rpy="0 0 0" xyz="0 0 0"/>
      <geometry name="rh_mfdistal_visual">
        <mesh filename="../meshes/components/f_distal/pst/f_distal_pst.dae" scale="0.001 0.001 0.001"/>
      </geometry>
    </visual>
    <collision>
      <origin rpy="0 0 0" xyz="0 0 0"/>
      <geometry name="rh_mfdistal_collision_geom">
        <mesh filename="../meshes/components/f_distal/pst/f_distal_pst.dae" scale="0.001 0.001 0.001"/>
      </geometry>
    </collision>
  </link>
  <joint name="rh_MFJ1" type="revolute">
    <parent link="rh_mfmiddle"/>
    <child link="rh_mfdistal"/>
    <origin rpy="0 0 0" xyz="0 0 0.025"/>
    <axis xyz="1 0 0"/>
    <!-- standard distal joint -->
    <limit effort="2" lower="0" upper="1.5707963267948966" velocity="2.0"/>
    <dynamics damping="0.1"/>
  </joint>
  <gazebo reference="rh_MFJ1">
    <provideFeedback>1</provideFeedback>
    <implicitSpringDamper>1</implicitSpringDamper>
  </gazebo>
  <link name="rh_mftip">
    <inertial>
      <mass value="0.001"/>
      <inertia ixx="0.0" ixy="0.0" ixz="0.0" iyy="0.0" iyz="0.0" izz="0.0"/>
    </inertial>
  </link>
  <joint name="rh_MFtip" type="fixed">
    <parent link="rh_mfdistal"/>
    <child link="rh_mftip"/>
    <origin rpy="0 0 0" xyz="0 0 0.026"/>
  </joint>
  <gazebo reference="rh_mfdistal">
    <sensor name="rh_mfdistal_contact" type="contact">
      <always_on>1</always_on>
      <update_rate>1000.0</update_rate>
      <contact>
        <collision>rh_mfdistal_collision</collision>
        <topic>rh_mfdistal_collision</topic>
      </contact>
      <plugin filename="libgazebo_ros_bumper.so" name="rh_mfdistal_gazebo_ros_bumper_controller">
        <alwaysOn>true</alwaysOn>
        <frameName>rh_mfdistal</frameName>
        <updateRate>100.0</updateRate>
        <bumperTopicName>contacts/rh_mf/distal</bumperTopicName>
      </plugin>
    </sensor>
    <mu1 value="500.0"/>
    <mu2 value="500.0"/>
    <kp value="10000000.0"/>
    <kd value="1.0"/>
    <selfCollide>true</selfCollide>
  </gazebo>
  <link name="rh_rfknuckle">
    <inertial>
      <origin rpy="0 0 0" xyz="0 0 0"/>
      <mass value="0.008"/>
      <inertia ixx="0.00000026" ixy="0.0" ixz="0.0" iyy="0.00000026" iyz="0.0" izz="0.00000032"/>
    </inertial>
    <visual>
      <origin rpy="0 0 0" xyz="0 0 0.0005"/>
      <geometry name="rh_rfknuckle_visual">
        <mesh filename="../meshes/components/f_knuckle/f_knuckle_E3M5.dae" scale="0.001 0.001 0.001"/>
      </geometry>
      <material name="LightGrey"/>
    </visual>
    <collision>
      <origin rpy="0 1.5708 0" xyz="0 0 0"/>
      <geometry name="rh_rfknuckle_collision_geom">
        <cylinder length="0.014" radius="0.007"/>
      </geometry>
    </collision>
  </link>
  <joint name="rh_RFJ4" type="revolute">
    <parent link="rh_palm"/>
    <child link="rh_rfknuckle"/>
    <!--<origin xyz="0.033 0 0.095" rpy="0 0 0" />-->
    <origin rpy="0 0 0" xyz="-0.011 0 0.095"/>
    <axis xyz="0 1 0"/>
    <limit effort="2" lower="-0.3490658503988659" upper="0.3490658503988659" velocity="2.0"/>
    <dynamics damping="0.1"/>
  </joint>
  <gazebo reference="rh_RFJ4">
    <provideFeedback>1</provideFeedback>
    <implicitSpringDamper>1</implicitSpringDamper>
  </gazebo>
  <transmission name="rh_rfknuckle_transmission">
    <type>sr_mechanism_model/SimpleTransmission</type>
    <actuator name="rh_RFJ4">
      <mechanicalReduction>1</mechanicalReduction>
    </actuator>
    <joint name="rh_RFJ4">
      <hardwareInterface>EffortJointInterface</hardwareInterface>
      <hardwareInterface>PositionJointInterface</hardwareInterface>
    </joint>
  </transmission>
  <gazebo reference="rh_rfknuckle">
    <!-- knuckle is not highly exposed, so bumper is not useful -->
    <material>Gazebo/Grey</material>
  </gazebo>
  <link name="rh_rfproximal">
    <inertial>
      <mass value="0.030"/>
      <origin xyz="0 0 0.0225"/>
      <inertia ixx="0.0000098" ixy="0.0" ixz="0.0" iyy="0.00001" iyz="0.0" izz="0.0000018"/>
    </inertial>
    <visual>
      <origin rpy="0 0 0" xyz="0 0 0"/>
      <geometry name="rh_rfproximal_visual">
        <mesh filename="../meshes/components/f_proximal/f_proximal_E3M5.dae" scale="0.001 0.001 0.001"/>
      </geometry>
      <material name="Grey"/>
    </visual>
    <collision>
      <origin rpy="0 0 0" xyz="0 0 0.025"/>
      <geometry name="rh_rfproximal_collision_geom">
        <cylinder length="0.040" radius="0.007"/>
      </geometry>
    </collision>
  </link>
  <joint name="rh_RFJ3" type="revolute">
    <parent link="rh_rfknuckle"/>
    <child link="rh_rfproximal"/>
    <origin rpy="0 0 0" xyz="0 0 0"/>
    <axis xyz="1 0 0"/>
    <limit effort="2" lower="-0.2617993877991494" upper="1.5707963267948966" velocity="2.0"/>
    <dynamics damping="0.1"/>
  </joint>
  <gazebo reference="rh_RFJ3">
    <provideFeedback>1</provideFeedback>
    <implicitSpringDamper>1</implicitSpringDamper>
  </gazebo>
  <transmission name="rh_rfproximal_transmission">
    <type>sr_mechanism_model/SimpleTransmission</type>
    <actuator name="rh_RFJ3">
      <mechanicalReduction>1</mechanicalReduction>
    </actuator>
    <joint name="rh_RFJ3">
      <hardwareInterface>EffortJointInterface</hardwareInterface>
      <hardwareInterface>PositionJointInterface</hardwareInterface>
    </joint>
  </transmission>
  <gazebo reference="rh_rfproximal">
    <selfCollide>true</selfCollide>
  </gazebo>
  <link name="rh_rfmiddle">
    <inertial>
      <origin rpy="0 0 0" xyz="0 0 0.0125"/>
      <mass value="0.017"/>
      <inertia ixx="0.0000026" ixy="0.0" ixz="0.0" iyy="0.0000027" iyz="0.0" izz="0.00000087"/>
    </inertial>
    <visual>
      <origin rpy="0 0 0" xyz="0 0 0"/>
      <geometry name="rh_rfmiddle_visual">
        <mesh filename="../meshes/components/f_middle/f_middle_E3M5.dae" scale="0.001 0.001 0.001"/>
      </geometry>
      <material name="Grey"/>
    </visual>
    <collision>
      <origin rpy="0 0 0" xyz="0 0 0.0125"/>
      <geometry name="rh_rfmiddle_collision_geom">
        <cylinder length="0.025" radius="0.007"/>
      </geometry>
    </collision>
    <collision>
      <origin rpy="0 0 0" xyz="0 0 0.0"/>
      <geometry>
        <sphere radius="0.007"/>
      </geometry>
    </collision>
    <collision>
      <origin rpy="0 0 0" xyz="0 0 0.025"/>
      <geometry>
        <sphere radius="0.007"/>
      </geometry>
    </collision>
  </link>
  <joint name="rh_RFJ2" type="revolute">
    <parent link="rh_rfproximal"/>
    <child link="rh_rfmiddle"/>
    <origin rpy="0 0 0" xyz="0 0 0.045"/>
    <axis xyz="1 0 0"/>
    <limit effort="2" lower="0" upper="1.5707963267948966" velocity="2.0"/>
    <dynamics damping="0.1"/>
  </joint>
  <gazebo reference="rh_RFJ2">
    <provideFeedback>1</provideFeedback>
    <implicitSpringDamper>1</implicitSpringDamper>
  </gazebo>
  <transmission name="rh_rfmiddle_transmission">
    <type>sr_mechanism_model/J0Transmission</type>
    <actuator name="rh_RFJ0">
      <mechanicalReduction>1</mechanicalReduction>
    </actuator>
    <joint name="rh_RFJ1">
      <hardwareInterface>EffortJointInterface</hardwareInterface>
      <hardwareInterface>PositionJointInterface</hardwareInterface>
    </joint>
  </transmission>
  <gazebo reference="rh_rfmiddle">
    <selfCollide>true</selfCollide>
  </gazebo>
  <link name="rh_rfdistal">
    <inertial>
      <mass value="0.012"/>
      <origin xyz="0 0 0.012"/>
      <inertia ixx="0.00000094" ixy="0.0" ixz="0.0" iyy="0.0000011" iyz="0.0" izz="0.00000053"/>
    </inertial>
    <visual>
      <origin rpy="0 0 0" xyz="0 0 0"/>
      <geometry name="rh_rfdistal_visual">
        <mesh filename="../meshes/components/f_distal/pst/f_distal_pst.dae" scale="0.001 0.001 0.001"/>
      </geometry>
    </visual>
    <collision>
      <origin rpy="0 0 0" xyz="0 0 0"/>
      <geometry name="rh_rfdistal_collision_geom">
        <mesh filename="../meshes/components/f_distal/pst/f_distal_pst.dae" scale="0.001 0.001 0.001"/>
      </geometry>
    </collision>
  </link>
  <joint name="rh_RFJ1" type="revolute">
    <parent link="rh_rfmiddle"/>
    <child link="rh_rfdistal"/>
    <origin rpy="0 0 0" xyz="0 0 0.025"/>
    <axis xyz="1 0 0"/>
    <!-- standard distal joint -->
    <limit effort="2" lower="0" upper="1.5707963267948966" velocity="2.0"/>
    <dynamics damping="0.1"/>
  </joint>
  <gazebo reference="rh_RFJ1">
    <provideFeedback>1</provideFeedback>
    <implicitSpringDamper>1</implicitSpringDamper>
  </gazebo>
  <link name="rh_rftip">
    <inertial>
      <mass value="0.001"/>
      <inertia ixx="0.0" ixy="0.0" ixz="0.0" iyy="0.0" iyz="0.0" izz="0.0"/>
    </inertial>
  </link>
  <joint name="rh_RFtip" type="fixed">
    <parent link="rh_rfdistal"/>
    <child link="rh_rftip"/>
    <origin rpy="0 0 0" xyz="0 0 0.026"/>
  </joint>
  <gazebo reference="rh_rfdistal">
    <sensor name="rh_rfdistal_contact" type="contact">
      <always_on>1</always_on>
      <update_rate>1000.0</update_rate>
      <contact>
        <collision>rh_rfdistal_collision</collision>
        <topic>rh_rfdistal_collision</topic>
      </contact>
      <plugin filename="libgazebo_ros_bumper.so" name="rh_rfdistal_gazebo_ros_bumper_controller">
        <alwaysOn>true</alwaysOn>
        <frameName>rh_rfdistal</frameName>
        <updateRate>100.0</updateRate>
        <bumperTopicName>contacts/rh_rf/distal</bumperTopicName>
      </plugin>
    </sensor>
    <mu1 value="500.0"/>
    <mu2 value="500.0"/>
    <kp value="10000000.0"/>
    <kd value="1.0"/>
    <selfCollide>true</selfCollide>
  </gazebo>
  <link name="rh_lfmetacarpal">
    <inertial>
      <origin rpy="0 0 0" xyz="0 0 0.04"/>
      <mass value="0.030"/>
      <inertia ixx="0.0000145" ixy="0.0" ixz="0.0" iyy="0.00001638" iyz="0.0" izz="0.000004272"/>
    </inertial>
    <visual>
      <origin rpy="0 0.9599 0" xyz="0 0 0"/>
      <axis xyz="0.573576436 0 0.819152044"/>
      <geometry name="rh_lfmetacarpal_visual">
        <mesh filename="../meshes/components/lf_metacarpal/lf_metacarpal_E3M5.dae" scale="0.001 0.001 0.001"/>
      </geometry>
      <material name="Grey"/>
    </visual>
    <collision>
      <origin rpy="0 0 0" xyz="0 0 0.038"/>
      <geometry name="rh_lfmetacarpal_collision_geom">
        <box size="0.018 0.024 0.040"/>
      </geometry>
    </collision>
  </link>
  <joint name="rh_LFJ5" type="revolute">
    <parent link="rh_palm"/>
    <child link="rh_lfmetacarpal"/>
    <origin rpy="0 -0.9599 0" xyz="-0.033 0 0.02071"/>
    <axis xyz="1 0 0"/>
    <limit effort="2" lower="0" upper="0.7853981633974483" velocity="2.0"/>
    <dynamics damping="0.1"/>
  </joint>
  <gazebo reference="rh_LFJ5">
    <provideFeedback>1</provideFeedback>
    <implicitSpringDamper>1</implicitSpringDamper>
  </gazebo>
  <transmission name="rh_lfmetacarpal_transmission">
    <type>sr_mechanism_model/SimpleTransmission</type>
    <actuator name="rh_LFJ5">
      <mechanicalReduction>1</mechanicalReduction>
    </actuator>
    <joint name="rh_LFJ5">
      <hardwareInterface>EffortJointInterface</hardwareInterface>
      <hardwareInterface>PositionJointInterface</hardwareInterface>
    </joint>
  </transmission>
  <gazebo reference="rh_lfmetacarpal">
    <selfCollide>true</selfCollide>
  </gazebo>
  <link name="rh_lfknuckle">
    <inertial>
      <origin rpy="0 0 0" xyz="0 0 0"/>
      <mass value="0.008"/>
      <inertia ixx="0.00000026" ixy="0.0" ixz="0.0" iyy="0.00000026" iyz="0.0" izz="0.00000032"/>
    </inertial>
    <visual>
      <origin rpy="0 0 0" xyz="0 0 0.0005"/>
      <geometry name="rh_lfknuckle_visual">
        <mesh filename="../meshes/components/f_knuckle/f_knuckle_E3M5.dae" scale="0.001 0.001 0.001"/>
      </geometry>
      <material name="LightGrey"/>
    </visual>
    <collision>
      <origin rpy="0 1.5708 0" xyz="0 0 0"/>
      <geometry name="rh_lfknuckle_collision_geom">
        <cylinder length="0.014" radius="0.007"/>
      </geometry>
    </collision>
  </link>
  <joint name="rh_LFJ4" type="revolute">
    <parent link="rh_lfmetacarpal"/>
    <child link="rh_lfknuckle"/>
    <!--<origin xyz="0.033 0 0.095" rpy="0 0 0" />-->
    <origin rpy="0 0.9599 0" xyz="0.05389084 0 0.03773727"/>
    <axis xyz="0 1 0"/>
    <limit effort="2" lower="-0.3490658503988659" upper="0.3490658503988659" velocity="2.0"/>
    <dynamics damping="0.1"/>
  </joint>
  <gazebo reference="rh_LFJ4">
    <provideFeedback>1</provideFeedback>
    <implicitSpringDamper>1</implicitSpringDamper>
  </gazebo>
  <transmission name="rh_lfknuckle_transmission">
    <type>sr_mechanism_model/SimpleTransmission</type>
    <actuator name="rh_LFJ4">
      <mechanicalReduction>1</mechanicalReduction>
    </actuator>
    <joint name="rh_LFJ4">
      <hardwareInterface>EffortJointInterface</hardwareInterface>
      <hardwareInterface>PositionJointInterface</hardwareInterface>
    </joint>
  </transmission>
  <gazebo reference="rh_lfknuckle">
    <!-- knuckle is not highly exposed, so bumper is not useful -->
    <material>Gazebo/Grey</material>
  </gazebo>
  <link name="rh_lfproximal">
    <inertial>
      <mass value="0.030"/>
      <origin xyz="0 0 0.0225"/>
      <inertia ixx="0.0000098" ixy="0.0" ixz="0.0" iyy="0.00001" iyz="0.0" izz="0.0000018"/>
    </inertial>
    <visual>
      <origin rpy="0 0 0" xyz="0 0 0"/>
      <geometry name="rh_lfproximal_visual">
        <mesh filename="../meshes/components/f_proximal/f_proximal_E3M5.dae" scale="0.001 0.001 0.001"/>
      </geometry>
      <material name="Grey"/>
    </visual>
    <collision>
      <origin rpy="0 0 0" xyz="0 0 0.025"/>
      <geometry name="rh_lfproximal_collision_geom">
        <cylinder length="0.040" radius="0.007"/>
      </geometry>
    </collision>
  </link>
  <joint name="rh_LFJ3" type="revolute">
    <parent link="rh_lfknuckle"/>
    <child link="rh_lfproximal"/>
    <origin rpy="0 0 0" xyz="0 0 0"/>
    <axis xyz="1 0 0"/>
    <limit effort="2" lower="-0.2617993877991494" upper="1.5707963267948966" velocity="2.0"/>
    <dynamics damping="0.1"/>
  </joint>
  <gazebo reference="rh_LFJ3">
    <provideFeedback>1</provideFeedback>
    <implicitSpringDamper>1</implicitSpringDamper>
  </gazebo>
  <transmission name="rh_lfproximal_transmission">
    <type>sr_mechanism_model/SimpleTransmission</type>
    <actuator name="rh_LFJ3">
      <mechanicalReduction>1</mechanicalReduction>
    </actuator>
    <joint name="rh_LFJ3">
      <hardwareInterface>EffortJointInterface</hardwareInterface>
      <hardwareInterface>PositionJointInterface</hardwareInterface>
    </joint>
  </transmission>
  <gazebo reference="rh_lfproximal">
    <selfCollide>true</selfCollide>
  </gazebo>
  <link name="rh_lfmiddle">
    <inertial>
      <origin rpy="0 0 0" xyz="0 0 0.0125"/>
      <mass value="0.017"/>
      <inertia ixx="0.0000026" ixy="0.0" ixz="0.0" iyy="0.0000027" iyz="0.0" izz="0.00000087"/>
    </inertial>
    <visual>
      <origin rpy="0 0 0" xyz="0 0 0"/>
      <geometry name="rh_lfmiddle_visual">
        <mesh filename="../meshes/components/f_middle/f_middle_E3M5.dae" scale="0.001 0.001 0.001"/>
      </geometry>
      <material name="Grey"/>
    </visual>
    <collision>
      <origin rpy="0 0 0" xyz="0 0 0.0125"/>
      <geometry name="rh_lfmiddle_collision_geom">
        <cylinder length="0.025" radius="0.007"/>
      </geometry>
    </collision>
    <collision>
      <origin rpy="0 0 0" xyz="0 0 0.0"/>
      <geometry>
        <sphere radius="0.007"/>
      </geometry>
    </collision>
    <collision>
      <origin rpy="0 0 0" xyz="0 0 0.025"/>
      <geometry>
        <sphere radius="0.007"/>
      </geometry>
    </collision>
  </link>
  <joint name="rh_LFJ2" type="revolute">
    <parent link="rh_lfproximal"/>
    <child link="rh_lfmiddle"/>
    <origin rpy="0 0 0" xyz="0 0 0.045"/>
    <axis xyz="1 0 0"/>
    <limit effort="2" lower="0" upper="1.5707963267948966" velocity="2.0"/>
    <dynamics damping="0.1"/>
  </joint>
  <gazebo reference="rh_LFJ2">
    <provideFeedback>1</provideFeedback>
    <implicitSpringDamper>1</implicitSpringDamper>
  </gazebo>
  <transmission name="rh_lfmiddle_transmission">
    <type>sr_mechanism_model/J0Transmission</type>
    <actuator name="rh_LFJ0">
      <mechanicalReduction>1</mechanicalReduction>
    </actuator>
    <joint name="rh_LFJ1">
      <hardwareInterface>EffortJointInterface</hardwareInterface>
      <hardwareInterface>PositionJointInterface</hardwareInterface>
    </joint>
  </transmission>
  <gazebo reference="rh_lfmiddle">
    <selfCollide>true</selfCollide>
  </gazebo>
  <link name="rh_lfdistal">
    <inertial>
      <mass value="0.012"/>
      <origin xyz="0 0 0.012"/>
      <inertia ixx="0.00000094" ixy="0.0" ixz="0.0" iyy="0.0000011" iyz="0.0" izz="0.00000053"/>
    </inertial>
    <visual>
      <origin rpy="0 0 0" xyz="0 0 0"/>
      <geometry name="rh_lfdistal_visual">
        <mesh filename="../meshes/components/f_distal/pst/f_distal_pst.dae" scale="0.001 0.001 0.001"/>
      </geometry>
    </visual>
    <collision>
      <origin rpy="0 0 0" xyz="0 0 0"/>
      <geometry name="rh_lfdistal_collision_geom">
        <mesh filename="../meshes/components/f_distal/pst/f_distal_pst.dae" scale="0.001 0.001 0.001"/>
      </geometry>
    </collision>
  </link>
  <joint name="rh_LFJ1" type="revolute">
    <parent link="rh_lfmiddle"/>
    <child link="rh_lfdistal"/>
    <origin rpy="0 0 0" xyz="0 0 0.025"/>
    <axis xyz="1 0 0"/>
    <!-- standard distal joint -->
    <limit effort="2" lower="0" upper="1.5707963267948966" velocity="2.0"/>
    <dynamics damping="0.1"/>
  </joint>
  <gazebo reference="rh_LFJ1">
    <provideFeedback>1</provideFeedback>
    <implicitSpringDamper>1</implicitSpringDamper>
  </gazebo>
  <link name="rh_lftip">
    <inertial>
      <mass value="0.001"/>
      <inertia ixx="0.0" ixy="0.0" ixz="0.0" iyy="0.0" iyz="0.0" izz="0.0"/>
    </inertial>
  </link>
  <joint name="rh_LFtip" type="fixed">
    <parent link="rh_lfdistal"/>
    <child link="rh_lftip"/>
    <origin rpy="0 0 0" xyz="0 0 0.026"/>
  </joint>
  <gazebo reference="rh_lfdistal">
    <sensor name="rh_lfdistal_contact" type="contact">
      <always_on>1</always_on>
      <update_rate>1000.0</update_rate>
      <contact>
        <collision>rh_lfdistal_collision</collision>
        <topic>rh_lfdistal_collision</topic>
      </contact>
      <plugin filename="libgazebo_ros_bumper.so" name="rh_lfdistal_gazebo_ros_bumper_controller">
        <alwaysOn>true</alwaysOn>
        <frameName>rh_lfdistal</frameName>
        <updateRate>100.0</updateRate>
        <bumperTopicName>contacts/rh_lf/distal</bumperTopicName>
      </plugin>
    </sensor>
    <mu1 value="500.0"/>
    <mu2 value="500.0"/>
    <kp value="10000000.0"/>
    <kd value="1.0"/>
    <selfCollide>true</selfCollide>
  </gazebo>
  <link name="rh_thbase">
    <inertial>
      <mass value="0.010"/>
      <origin rpy="0 0 0" xyz="0 0 0"/>
      <inertia ixx="0.00000016" ixy="0.0" ixz="0.0" iyy="0.00000016" iyz="0.0" izz="0.00000016"/>
    </inertial>
    <visual>
      <origin rpy="0 0 0" xyz="0 0 0"/>
      <geometry name="rh_thbase_visual">
        <box size="0.001 0.001 0.001"/>
      </geometry>
      <material name="shadow_thbase_material">
        <color rgba="0.5 0.5 0.5 1.0"/>
      </material>
    </visual>
    <collision>
      <origin rpy="0 0 0" xyz="0 0 0"/>
      <geometry name="rh_thbase_collision_geom">
        <sphere radius="0.011"/>
      </geometry>
    </collision>
  </link>
  <joint name="rh_THJ5" type="revolute">
    <parent link="rh_palm"/>
    <child link="rh_thbase"/>
    <origin rpy="-0.7853981633974483 0 -1.5707963267948966" xyz="0.034 -0.00858 0.029"/>
    <axis xyz="0 0 -1"/>
    <limit effort="5.0" lower="-1.0471975511965976" upper="1.0471975511965976" velocity="4.0"/>
    <dynamics damping="0.2"/>
  </joint>
  <gazebo reference="rh_THJ5">
    <provideFeedback>1</provideFeedback>
    <implicitSpringDamper>1</implicitSpringDamper>
  </gazebo>
  <transmission name="rh_thbase_transmission">
    <type>sr_mechanism_model/SimpleTransmission</type>
    <actuator name="rh_THJ5">
      <mechanicalReduction>1</mechanicalReduction>
    </actuator>
    <joint name="rh_THJ5">
      <hardwareInterface>EffortJointInterface</hardwareInterface>
      <hardwareInterface>PositionJointInterface</hardwareInterface>
    </joint>
  </transmission>
  <gazebo reference="rh_thbase">
    <!-- base is inside the proximal and not exposed, so bumper is not needed -->
    <selfCollide>false</selfCollide>
  </gazebo>
  <link name="rh_thproximal">
    <inertial>
      <mass value="0.040"/>
      <origin rpy="0 0 0" xyz="0 0 0.019"/>
      <inertia ixx="0.0000136" ixy="0.0" ixz="0.0" iyy="0.0000136" iyz="0.0" izz="0.00000313"/>
    </inertial>
    <visual>
      <origin rpy="0 0 0" xyz="0 0 0"/>
      <geometry name="rh_thproximal_visual">
        <mesh filename="../meshes/components/th_proximal/th_proximal_E3M5.dae" scale="0.001 0.001 0.001"/>
      </geometry>
      <material name="shadow_thproximal_material">
        <color rgba="0.2 0.2 0.2 1.0"/>
      </material>
    </visual>
    <collision>
      <origin rpy="0 0 0" xyz="0 0 0.020"/>
      <geometry name="rh_thproximal_collision_geom">
        <cylinder length="0.018" radius="0.012"/>
      </geometry>
    </collision>
  </link>
  <joint name="rh_THJ4" type="revolute">
    <parent link="rh_thbase"/>
    <child link="rh_thproximal"/>
    <origin rpy="0 0 0" xyz="0 0 0"/>
    <axis xyz="0 1 0"/>
    <limit effort="3" lower="0.0" upper="1.2217304763960306" velocity="4.0"/>
    <dynamics damping="0.2"/>
  </joint>
  <gazebo reference="rh_THJ4">
    <provideFeedback>1</provideFeedback>
    <implicitSpringDamper>1</implicitSpringDamper>
  </gazebo>
  <transmission name="rh_thproximal_transmission">
    <type>sr_mechanism_model/SimpleTransmission</type>
    <actuator name="rh_THJ4">
      <mechanicalReduction>1</mechanicalReduction>
    </actuator>
    <joint name="rh_THJ4">
      <hardwareInterface>EffortJointInterface</hardwareInterface>
      <hardwareInterface>PositionJointInterface</hardwareInterface>
    </joint>
  </transmission>
  <gazebo reference="rh_thproximal">
    <selfCollide>false</selfCollide>
  </gazebo>
  <link name="rh_thhub">
    <inertial>
      <mass value="0.005"/>
      <origin rpy="0 0 0" xyz="0 0 0"/>
      <inertia ixx="0.000001" ixy="0.0" ixz="0.0" iyy="0.000001" iyz="0.0" izz="0.0000003"/>
    </inertial>
    <visual>
      <origin rpy="0 0 0" xyz="0 0 0"/>
      <geometry name="rh_thhub_visual">
        <box size="0.001 0.001 0.001"/>
      </geometry>
      <material name="shadow_thhub_material">
        <color rgba="0.7 0.7 0.7 1.0"/>
      </material>
    </visual>
    <collision>
      <origin rpy="0 0 0" xyz="0 0 0"/>
      <geometry name="rh_thhub_collision_geom">
        <sphere radius="0.010"/>
      </geometry>
    </collision>
  </link>
  <joint name="rh_THJ3" type="revolute">
    <parent link="rh_thproximal"/>
    <child link="rh_thhub"/>
    <origin rpy="0 0 0" xyz="0 0 0.038"/>
    <axis xyz="0 1 0"/>
    <limit effort="2.0" lower="-0.20943951023931953" upper="0.20943951023931953" velocity="4.0"/>
    <dynamics damping="0.2"/>
  </joint>
  <gazebo reference="rh_THJ3">
    <provideFeedback>1</provideFeedback>
    <implicitSpringDamper>1</implicitSpringDamper>
  </gazebo>
  <transmission name="rh_thhub_transmission">
    <type>sr_mechanism_model/SimpleTransmission</type>
    <actuator name="rh_THJ3">
      <mechanicalReduction>1</mechanicalReduction>
    </actuator>
    <joint name="rh_THJ3">
      <hardwareInterface>EffortJointInterface</hardwareInterface>
      <hardwareInterface>PositionJointInterface</hardwareInterface>
    </joint>
  </transmission>
  <gazebo reference="rh_thhub">
    <!-- hub is inside the proximal and not exposed, so bumper is not needed -->
    <selfCollide>false</selfCollide>
  </gazebo>
  <link name="rh_thmiddle">
    <inertial>
      <mass value="0.020"/>
      <origin rpy="0 0 0" xyz="0 0 0.016"/>
      <inertia ixx="0.0000051" ixy="0.0" ixz="0.0" iyy="0.0000051" iyz="0.0" izz="0.00000121"/>
    </inertial>
    <visual>
      <origin rpy="0 0 0" xyz="0 0 0"/>
      <geometry name="rh_thmiddle_visual">
        <mesh filename="../meshes/components/th_middle/th_middle_E3M5.dae" scale="0.001 0.001 0.001"/>
      </geometry>
      <material name="shadow_thmiddle_material">
        <color rgba="0.2 0.2 0.2 1.0"/>
      </material>
    </visual>
    <collision>
      <origin rpy="0 0 0" xyz="0 0 0.012"/>
      <geometry name="rh_thmiddle_collision_geom">
        <cylinder length="0.018" radius="0.011"/>
      </geometry>
    </collision>
    <collision>
      <origin rpy="0 0 0" xyz="0 0 0.019"/>
      <geometry>
        <sphere radius="0.011"/>
      </geometry>
    </collision>
  </link>
  <joint name="rh_THJ2" type="revolute">
    <parent link="rh_thhub"/>
    <child link="rh_thmiddle"/>
    <origin rpy="0 0 0" xyz="0 0 0"/>
    <axis xyz="1 0 0"/>
    <limit effort="2.0" lower="-0.6981317007977318" upper="0.6981317007977318" velocity="2.0"/>
    <dynamics damping="0.1"/>
  </joint>
  <gazebo reference="rh_THJ2">
    <provideFeedback>1</provideFeedback>
    <implicitSpringDamper>1</implicitSpringDamper>
  </gazebo>
  <transmission name="rh_thmiddle_transmission">
    <type>sr_mechanism_model/SimpleTransmission</type>
    <actuator name="rh_THJ2">
      <mechanicalReduction>1</mechanicalReduction>
    </actuator>
    <joint name="rh_THJ2">
      <hardwareInterface>EffortJointInterface</hardwareInterface>
      <hardwareInterface>PositionJointInterface</hardwareInterface>
    </joint>
  </transmission>
  <gazebo reference="rh_thmiddle">
  </gazebo>
  <!-- common -->
  <link name="rh_thdistal">
    <inertial>
      <mass value="0.016"/>
      <origin rpy="0 0 0" xyz="0 0 0.01375"/>
      <inertia ixx="0.0000021" ixy="0.0" ixz="0.0" iyy="0.0000022" iyz="0.0" izz="0.000001"/>
    </inertial>
    <visual>
      <origin rpy="0 0 0" xyz="0 0 0"/>
      <geometry name="rh_thdistal_visual">
        <mesh filename="../meshes/components/th_distal/pst/th_distal_pst.dae" scale="0.001 0.001 0.001"/>
      </geometry>
      <material name="shadow_thmiddle_material">
        <color rgba="0.2 0.2 0.2 1.0"/>
      </material>
    </visual>
    <collision>
      <origin rpy="0 0 0" xyz="0 0 0"/>
      <geometry name="rh_thmiddle_collision_geom">
        <mesh filename="../meshes/components/th_distal/pst/th_distal_pst.dae" scale="0.001 0.001 0.001"/>
      </geometry>
    </collision>
  </link>
  <joint name="rh_THJ1" type="revolute">
    <parent link="rh_thmiddle"/>
    <child link="rh_thdistal"/>
    <origin rpy="0 0 0" xyz="0 0 0.032"/>
    <axis xyz="1 0 0"/>
    <limit effort="1.0" lower="-0.2617993877991494" upper="1.5707963267948966" velocity="4.0"/>
    <dynamics damping="0.2"/>
  </joint>
  <gazebo reference="rh_THJ1">
    <provideFeedback>1</provideFeedback>
    <implicitSpringDamper>1</implicitSpringDamper>
  </gazebo>
  <link name="rh_thtip">
    <inertial>
      <mass value="0.001"/>
      <inertia ixx="0.0" ixy="0.0" ixz="0.0" iyy="0.0" iyz="0.0" izz="0.0"/>
    </inertial>
  </link>
  <joint name="rh_thtip" type="fixed">
    <parent link="rh_thdistal"/>
    <child link="rh_thtip"/>
    <origin rpy="0 0 0" xyz="0 0 0.0275"/>
  </joint>
  <gazebo reference="rh_thdistal">
    <sensor name="rh_thdistal_contact" type="contact">
      <always_on>1</always_on>
      <update_rate>1000.0</update_rate>
      <contact>
        <collision>rh_thdistal_collision</collision>
        <topic>rh_thdistal_collision</topic>
      </contact>
      <plugin filename="libgazebo_ros_bumper.so" name="rh_thdistal_gazebo_ros_bumper_controller">
        <alwaysOn>true</alwaysOn>
        <frameName>rh_thdistal</frameName>
        <updateRate>100.0</updateRate>
        <bumperTopicName>contacts/rh_th/distal</bumperTopicName>
      </plugin>
    </sensor>
    <mu1 value="500.0"/>
    <mu2 value="500.0"/>
    <kp value="10000000.0"/>
    <kd value="1.0"/>
    <selfCollide>true</selfCollide>
  </gazebo>
  <transmission name="rh_thdistal_transmission">
    <type>sr_mechanism_model/SimpleTransmission</type>
    <actuator name="rh_THJ1">
      <mechanicalReduction>1</mechanicalReduction>
    </actuator>
    <joint name="rh_THJ1">
      <hardwareInterface>EffortJointInterface</hardwareInterface>
      <hardwareInterface>PositionJointInterface</hardwareInterface>
    </joint>
  </transmission>
  <!-- make connection between ur10 arm and shadow hand -->
  <joint name="ra_arm_to_hand" type="fixed">
    <parent link="ur10_tool0"/>
    <child link="rh_forearm"/>
    <origin rpy="0.0 0.0 0.0" xyz="0.0 0.0 0.0"/>
  </joint>
</robot>
